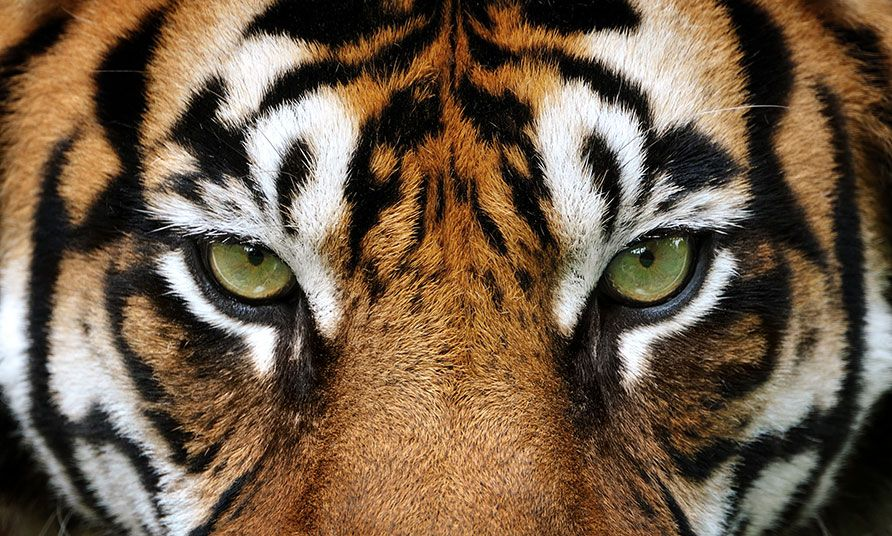Tigrew: (18, 16, 854, 514)
